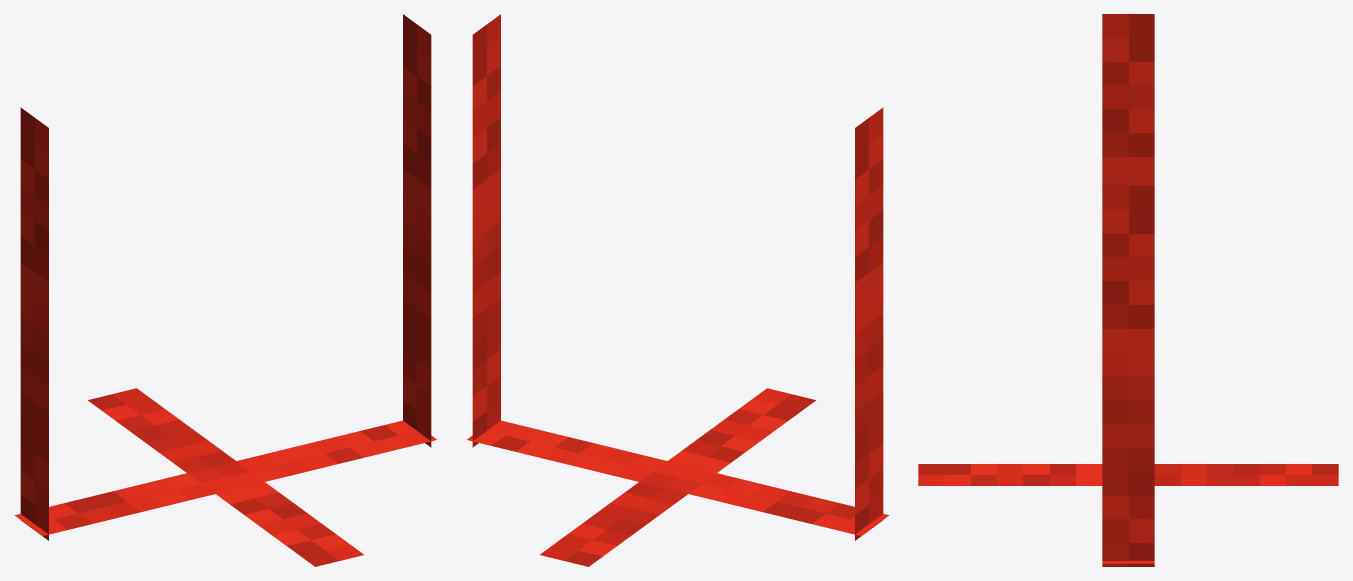
Rendered from dust_on_2211.gltf.
3 renders of one model, left to right at view 1: azimuth 30°, elevation 25°; view 2: azimuth 150°, elevation 25°; view 3: azimuth 270°, elevation 25°, orthographic. The views are drawn at different scales.
Parts seen in each view (by area): view 1: dust_on_2211; view 2: dust_on_2211; view 3: dust_on_2211.
Part boxes in pixels (bbox=[...]): dust_on_2211: bbox=[15, 14, 436, 566]; dust_on_2211: bbox=[467, 14, 888, 566]; dust_on_2211: bbox=[918, 14, 1338, 566].
Bounding box in the file's own units: 1 × 1 × 1.
Materials: 1 (1 with a texture image).
